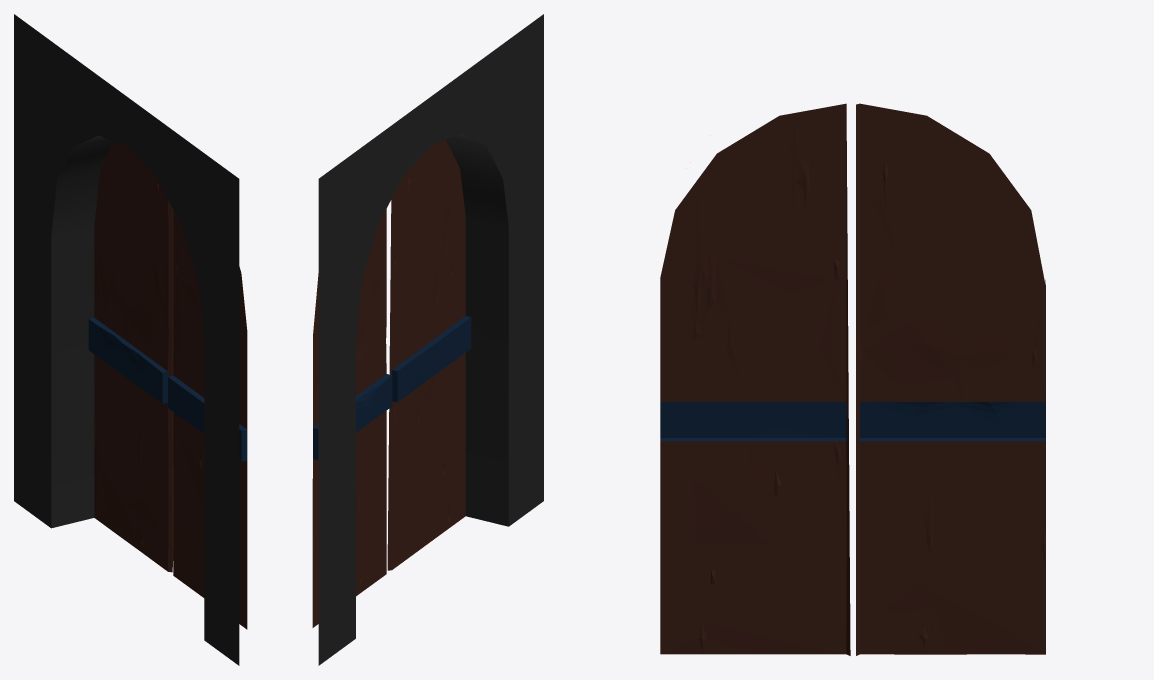
The model's file is standard_door_9.FBX.
3 views of the same model, side by side, from view 1: azimuth 30°, elevation 25°; view 2: azimuth 150°, elevation 25°; view 3: azimuth 270°, elevation 25° (orthographic). The views are drawn at different scales.
Visible parts, largest first — view 1: standard_door_9; view 2: standard_door_9; view 3: standard_door_9.
Part boxes in pixels (x1=…): standard_door_9: x1=14, y1=14, x2=247, y2=665; standard_door_9: x1=312, y1=14, x2=543, y2=665; standard_door_9: x1=660, y1=103, x2=1045, y2=655.
Bounding box in the file's own units: 43.77 × 330 × 276.
